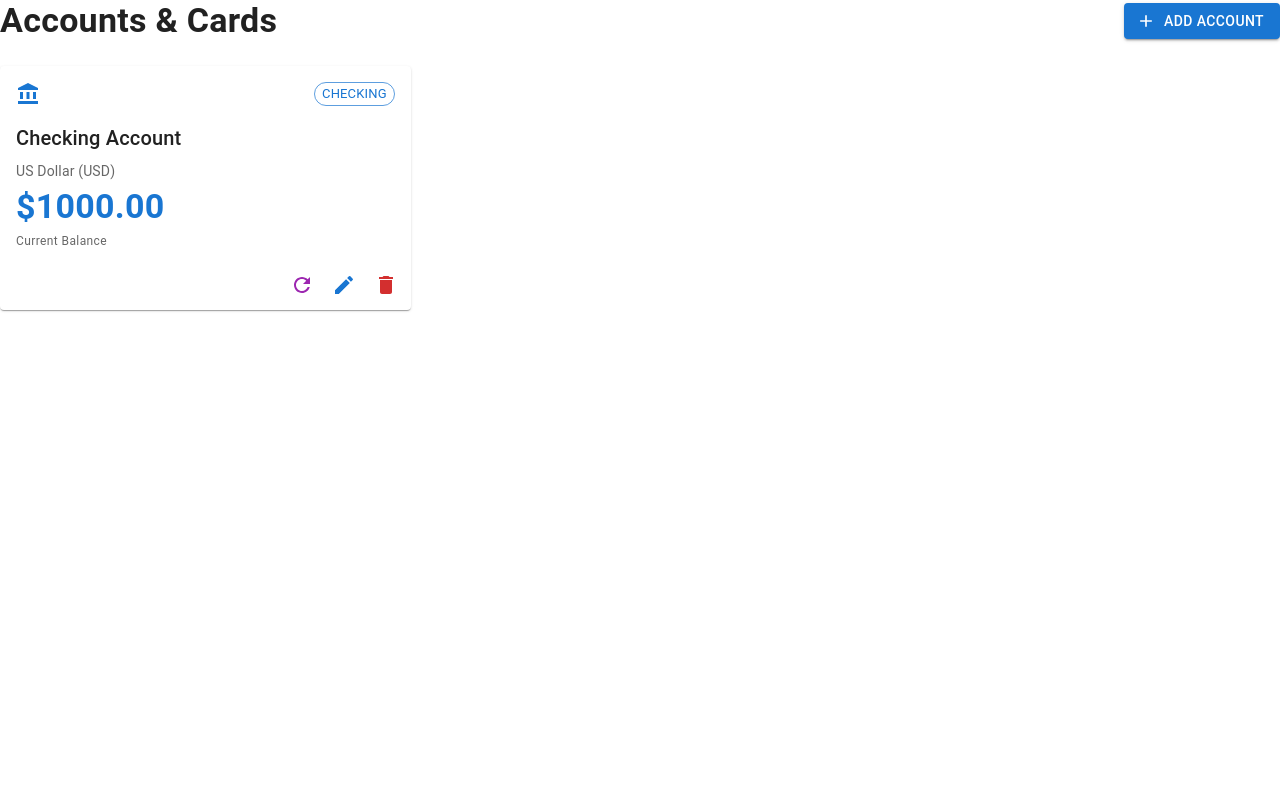
Test: Accounts › Add Account Dialog › should display all form fields in dialog
This screenshot has width=1280, height=800.
What coordinates should you click on to do the following:
click the button "Add Account"
I would click on:
 (1202, 21)
Its box is x1=1124 y1=3 x2=1279 y2=39.
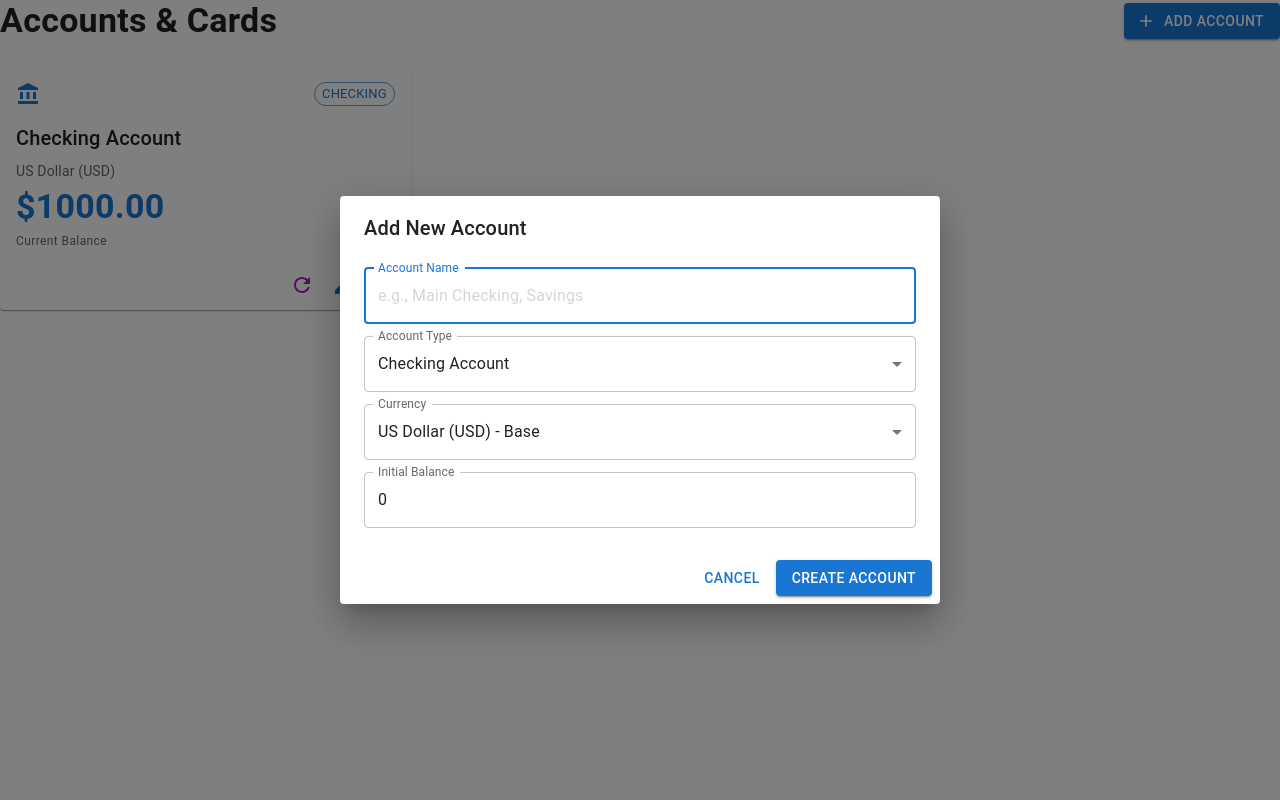
Check: the field labelled "Account Name" is shown, box x1=364 y1=268 x2=916 y2=324
Check: the dropdown named "Account Type" is shown, box x1=378 y1=354 x2=510 y2=373
Check: the dropdown named "Currency" is shown, box x1=378 y1=422 x2=540 y2=441
